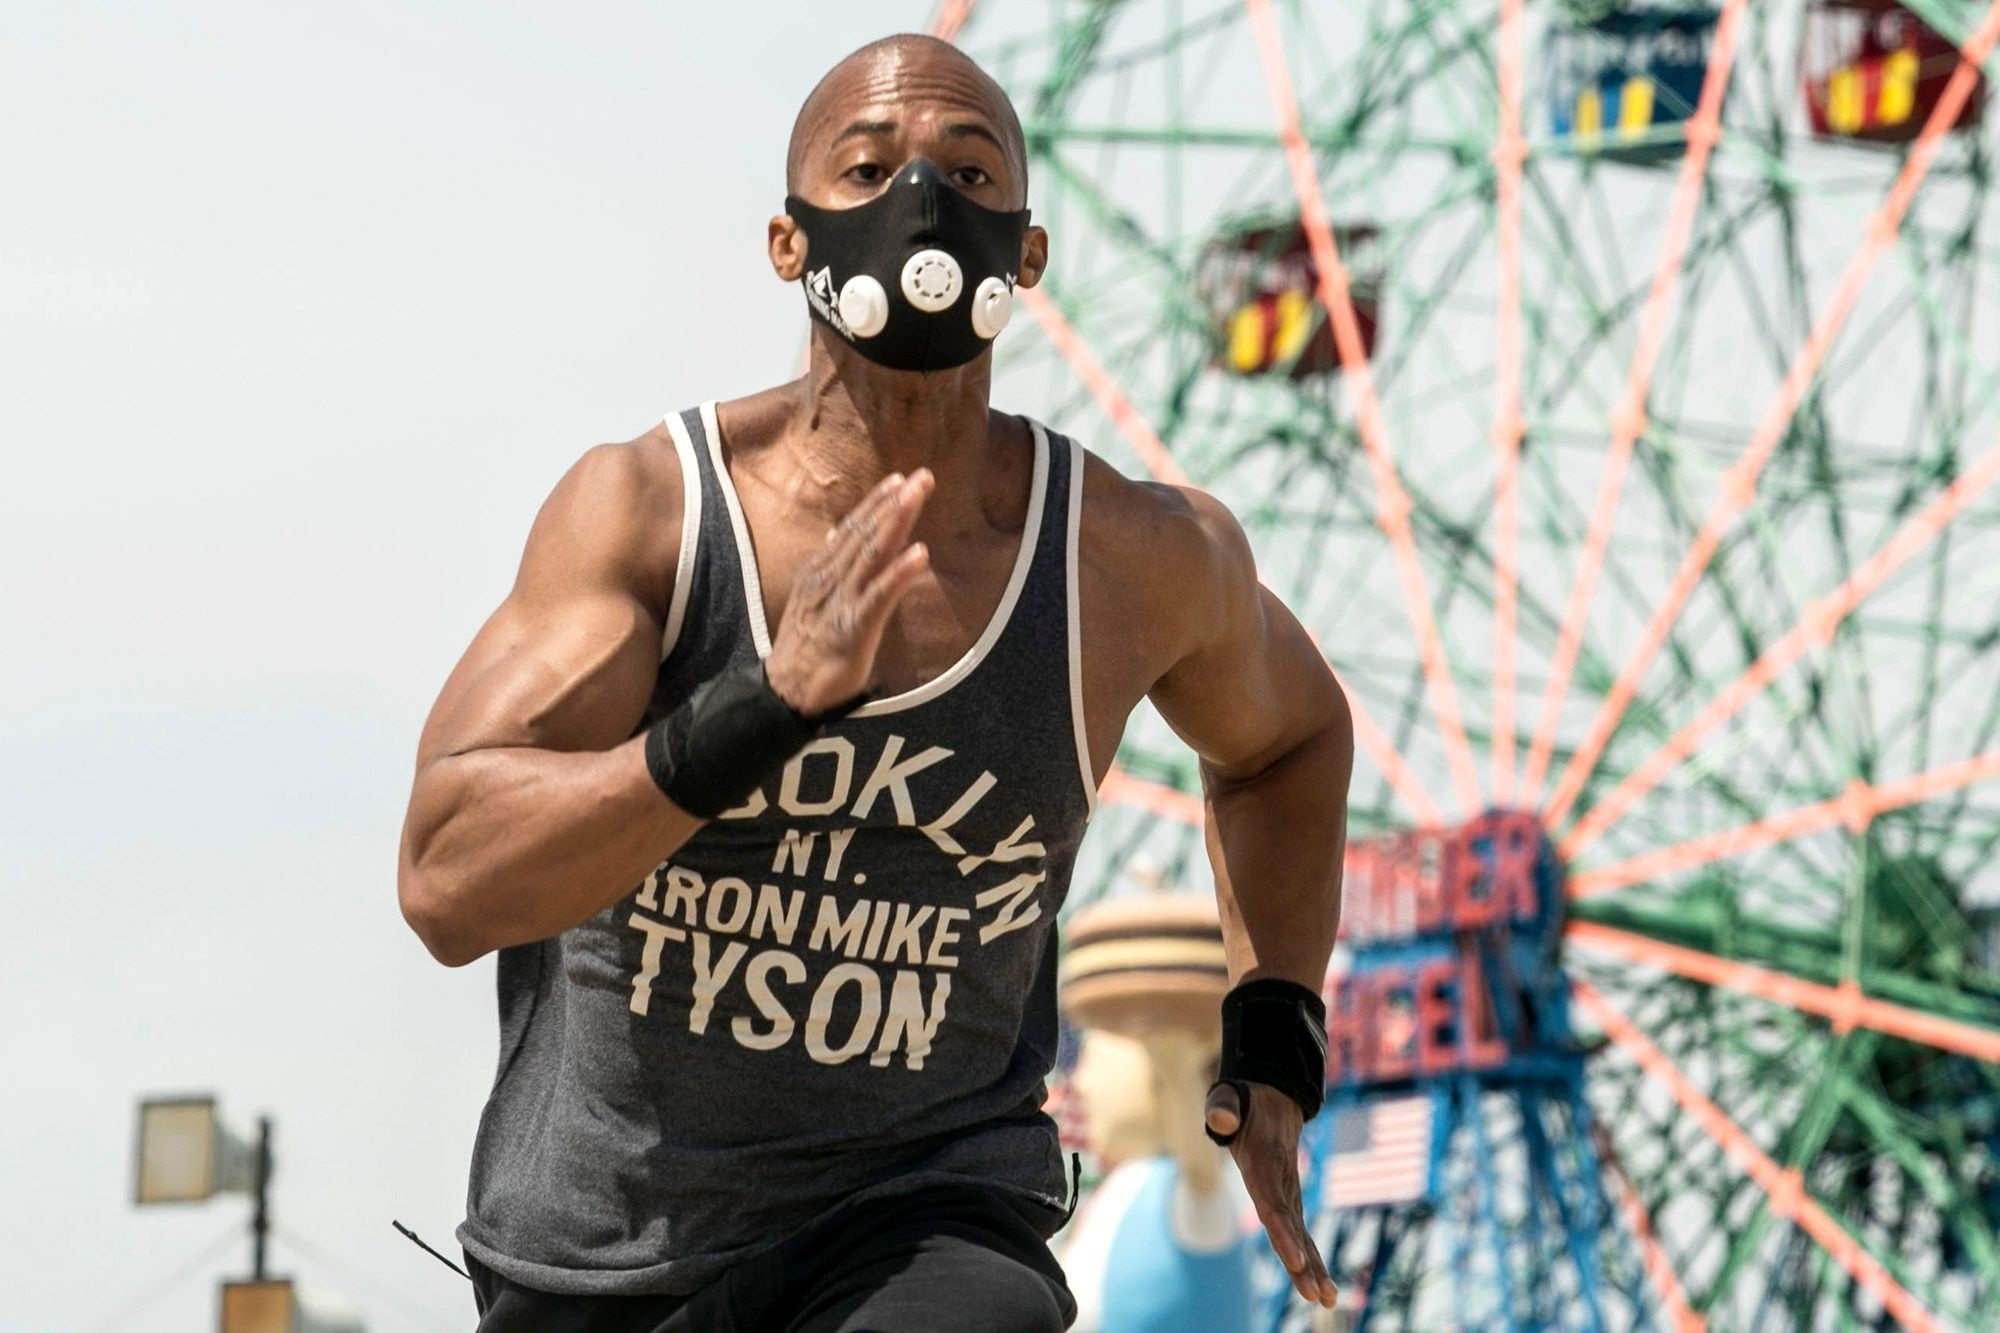face_with_mask: (753, 44, 1048, 420)
